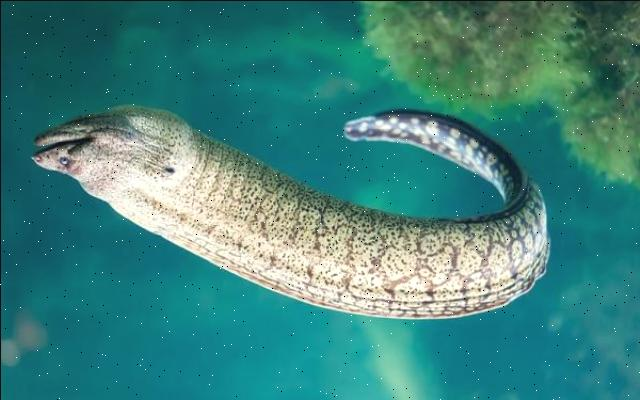Mulut: (15, 110, 111, 184)
Sirip Ekor: (335, 90, 463, 172)
